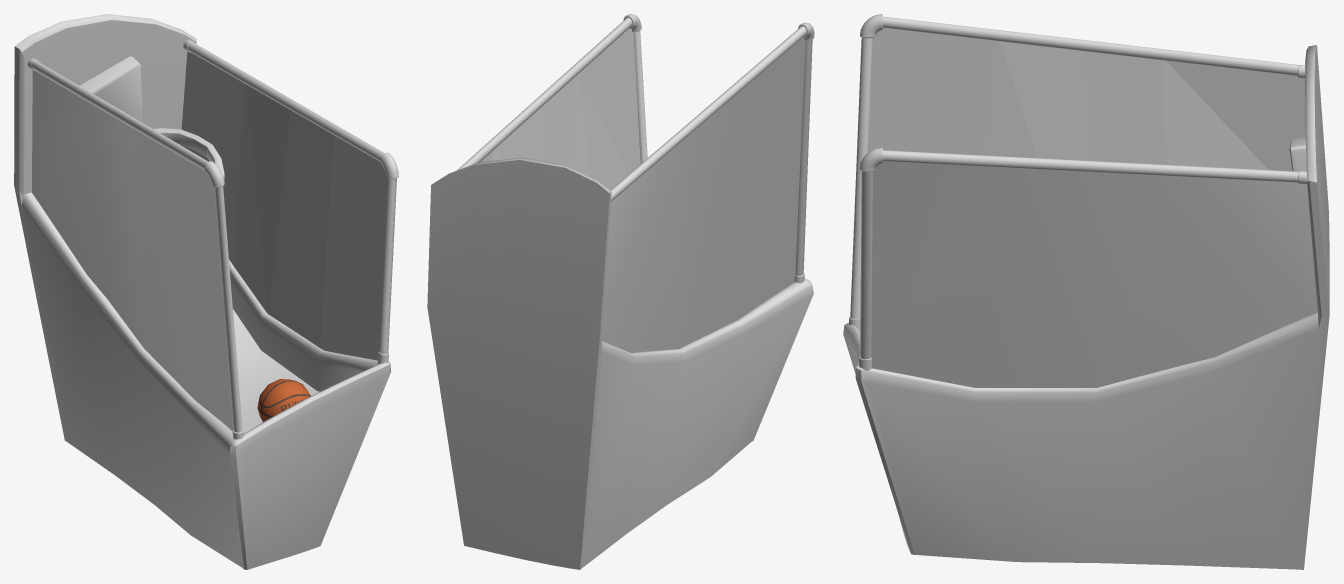
Rendered from Basketball Machine.FBX.
3 renders of one model, left to right at view 1: azimuth 30°, elevation 25°; view 2: azimuth 150°, elevation 25°; view 3: azimuth 270°, elevation 25°, orthographic. The views are drawn at different scales.
Parts seen in each view (by area): view 1: Box001, Cylinder008, Cylinder007, Box002, Object001; view 2: Box001, Cylinder008, Cylinder007; view 3: Cylinder007, Box001, Cylinder008.
Boxes of the visible parts, bbox=[...] form: Box001: bbox=[14, 14, 391, 569]; Cylinder008: bbox=[27, 58, 243, 439]; Cylinder007: bbox=[180, 39, 398, 363]; Box002: bbox=[80, 56, 224, 187]; Object001: bbox=[257, 379, 310, 421]; Box001: bbox=[427, 157, 813, 569]; Cylinder008: bbox=[602, 22, 814, 352]; Cylinder007: bbox=[457, 14, 647, 189]; Cylinder007: bbox=[859, 148, 1317, 387]; Box001: bbox=[843, 45, 1329, 569]; Cylinder008: bbox=[849, 14, 1305, 331].
Bounding box in the file's own units: 38.4 × 83.47 × 77.92.
